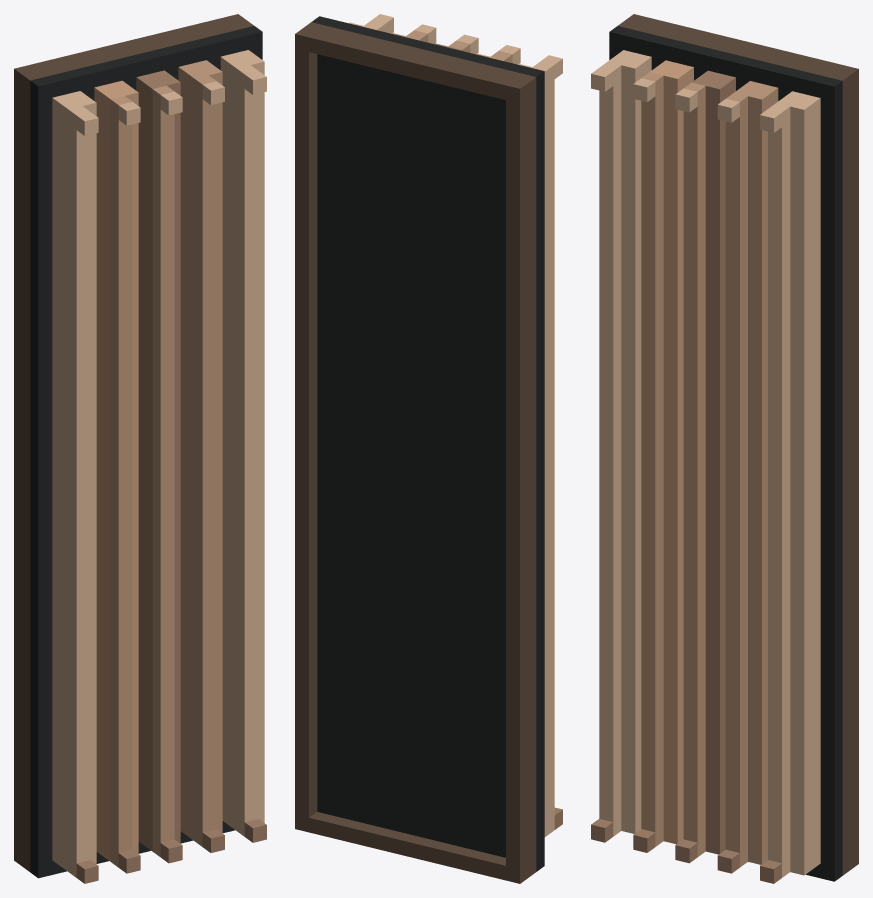
The model's file is plaques_acoustiques_lattes.glb.
3 views of the same model, side by side, from view 1: azimuth 30°, elevation 25°; view 2: azimuth 150°, elevation 25°; view 3: azimuth 330°, elevation 25° (orthographic).
Visible parts, largest first — view 1: Plaques acoustiques oakLight, Plaques acoustiques oak, Plaques acoustiques backing, Plaques acoustiques oakDark, Plaques acoustiques edge, Plaques acoustiques oakWarm; view 2: Plaques acoustiques backing, Plaques acoustiques edge, Plaques acoustiques oakLight, Plaques acoustiques oak; view 3: Plaques acoustiques oakLight, Plaques acoustiques oak, Plaques acoustiques backing, Plaques acoustiques oakDark, Plaques acoustiques edge, Plaques acoustiques oakWarm.
Part boxes in pixels (bbox=[...]): Plaques acoustiques oakLight: bbox=[52, 50, 266, 877]; Plaques acoustiques oak: bbox=[110, 60, 222, 867]; Plaques acoustiques backing: bbox=[30, 26, 262, 878]; Plaques acoustiques oakDark: bbox=[76, 70, 266, 883]; Plaques acoustiques edge: bbox=[14, 14, 253, 871]; Plaques acoustiques oakWarm: bbox=[94, 80, 138, 861]; Plaques acoustiques backing: bbox=[311, 16, 544, 871]; Plaques acoustiques edge: bbox=[295, 22, 536, 883]; Plaques acoustiques oakLight: bbox=[349, 14, 562, 836]; Plaques acoustiques oak: bbox=[391, 30, 512, 63]; Plaques acoustiques oakLight: bbox=[591, 50, 820, 877]; Plaques acoustiques oak: bbox=[641, 72, 778, 867]; Plaques acoustiques backing: bbox=[609, 26, 842, 881]; Plaques acoustiques oakDark: bbox=[591, 70, 781, 883]; Plaques acoustiques edge: bbox=[618, 14, 858, 875]; Plaques acoustiques oakWarm: bbox=[650, 60, 693, 844].
Bounding box in the file's own units: 0.96 × 3.24 × 0.42.
